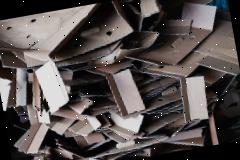paper: (42, 0, 137, 62), (33, 58, 71, 114), (112, 66, 146, 116), (184, 74, 212, 122), (109, 108, 146, 138), (138, 0, 163, 17)
